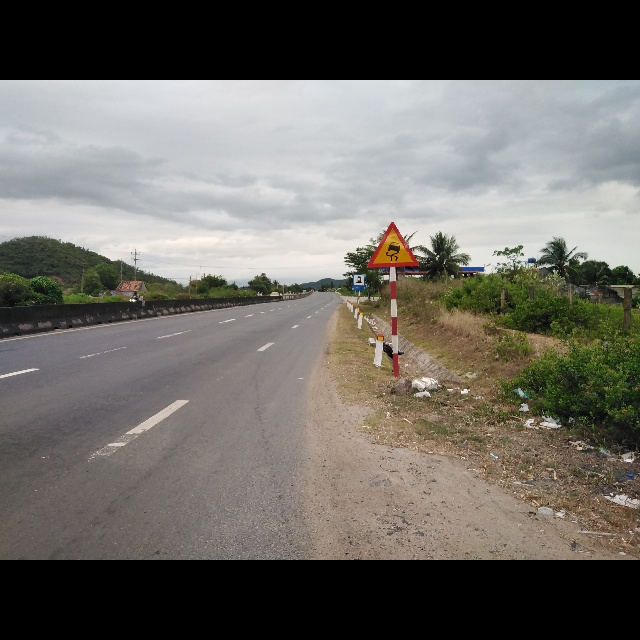Đường trơn trượt: (367, 219, 419, 269)
